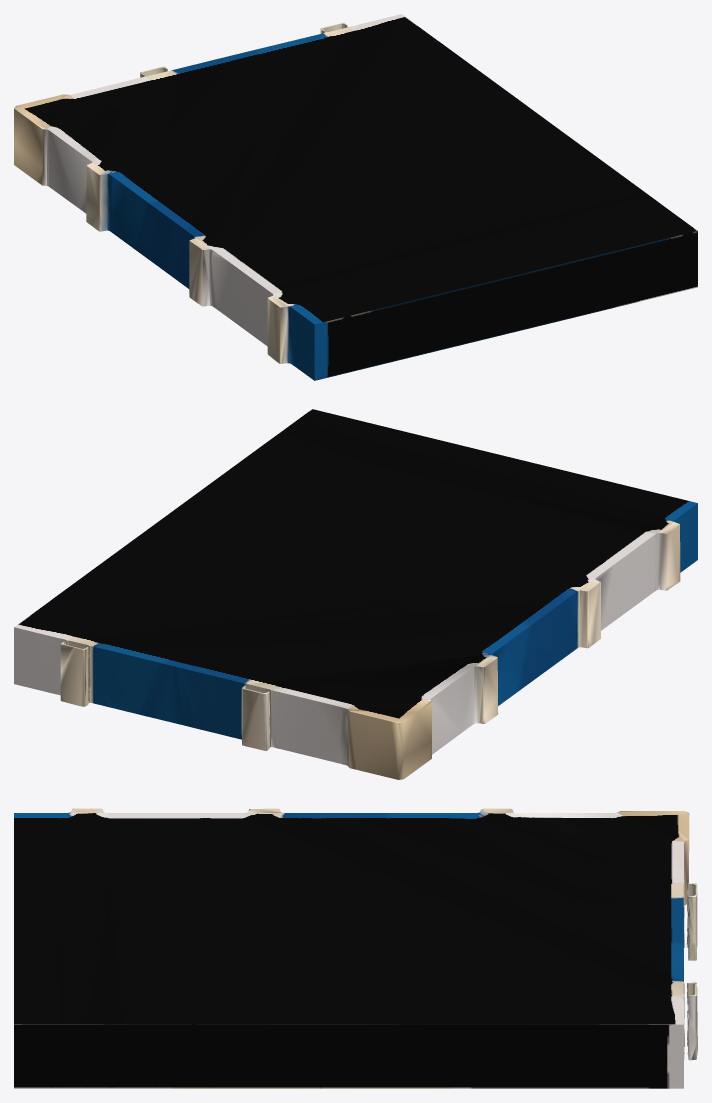
The model's file is 11-roof-back-left.fbx.
3 views of the same model, one above another, from view 1: azimuth 30°, elevation 25°; view 2: azimuth 150°, elevation 25°; view 3: azimuth 270°, elevation 25° (orthographic). The views are drawn at different scales.
Visible parts, largest first — view 1: roof-back-left; view 2: roof-back-left; view 3: roof-back-left.
Part boxes in pixels (bbox=[...]): roof-back-left: bbox=[14, 14, 697, 380]; roof-back-left: bbox=[14, 409, 697, 779]; roof-back-left: bbox=[14, 808, 697, 1088].
Size of the model in its own units: 4396 by 605 by 5873.
1 material, 1 textured.
